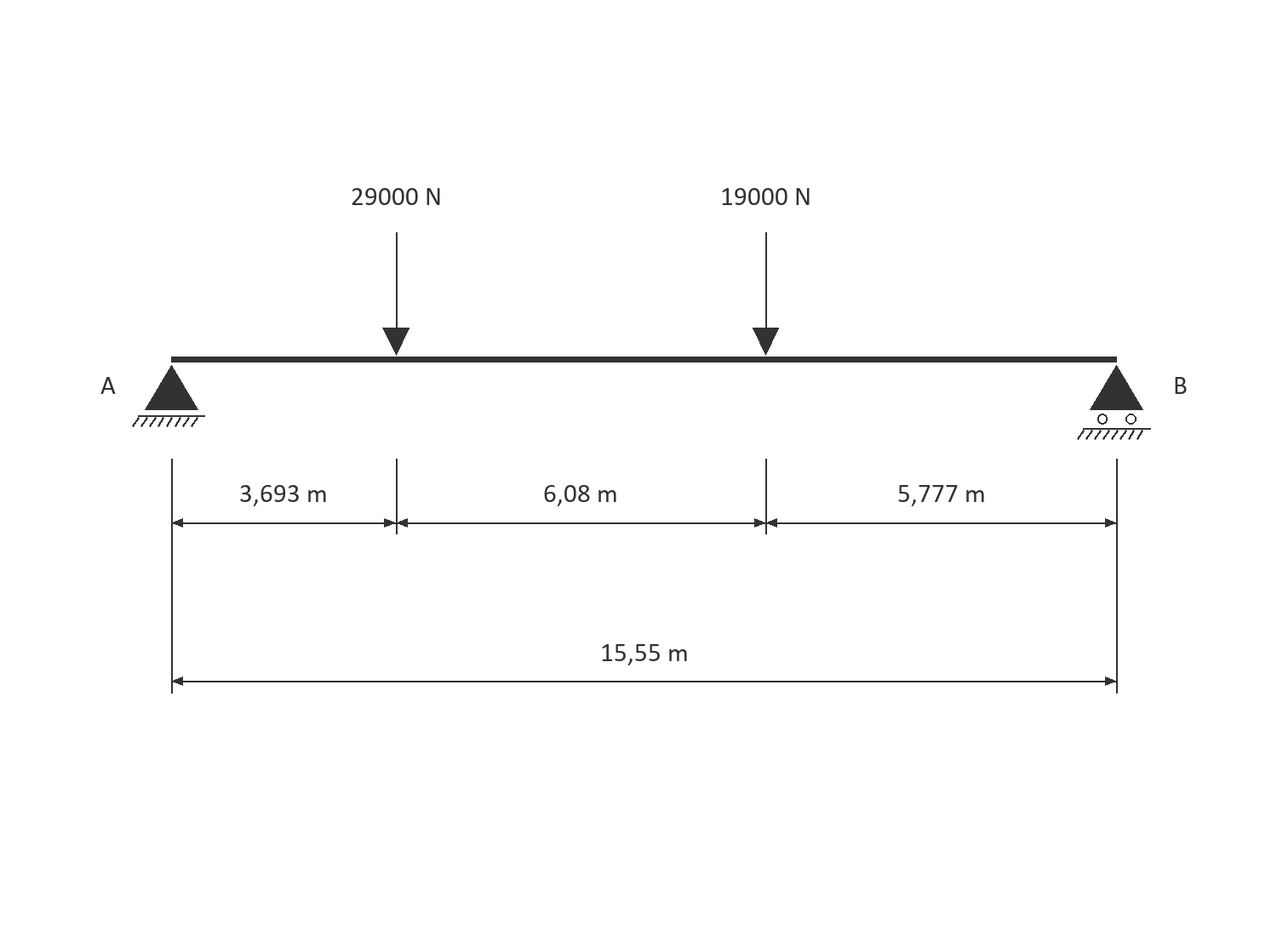pin_support: (132, 365, 205, 427)
point_load: (382, 232, 409, 356), (753, 232, 779, 356)
roller_support: (1077, 365, 1151, 440)
